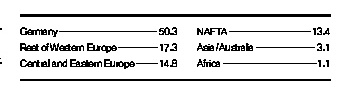table: (0, 0, 353, 97)
